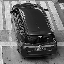mobil: (10, 1, 57, 58)
